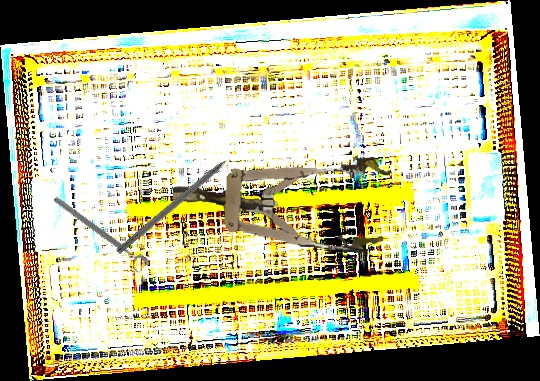Fixation Ring: (47, 193, 152, 277)
Hook Surgical: (115, 144, 245, 257)
Speculum: (169, 143, 392, 255)
